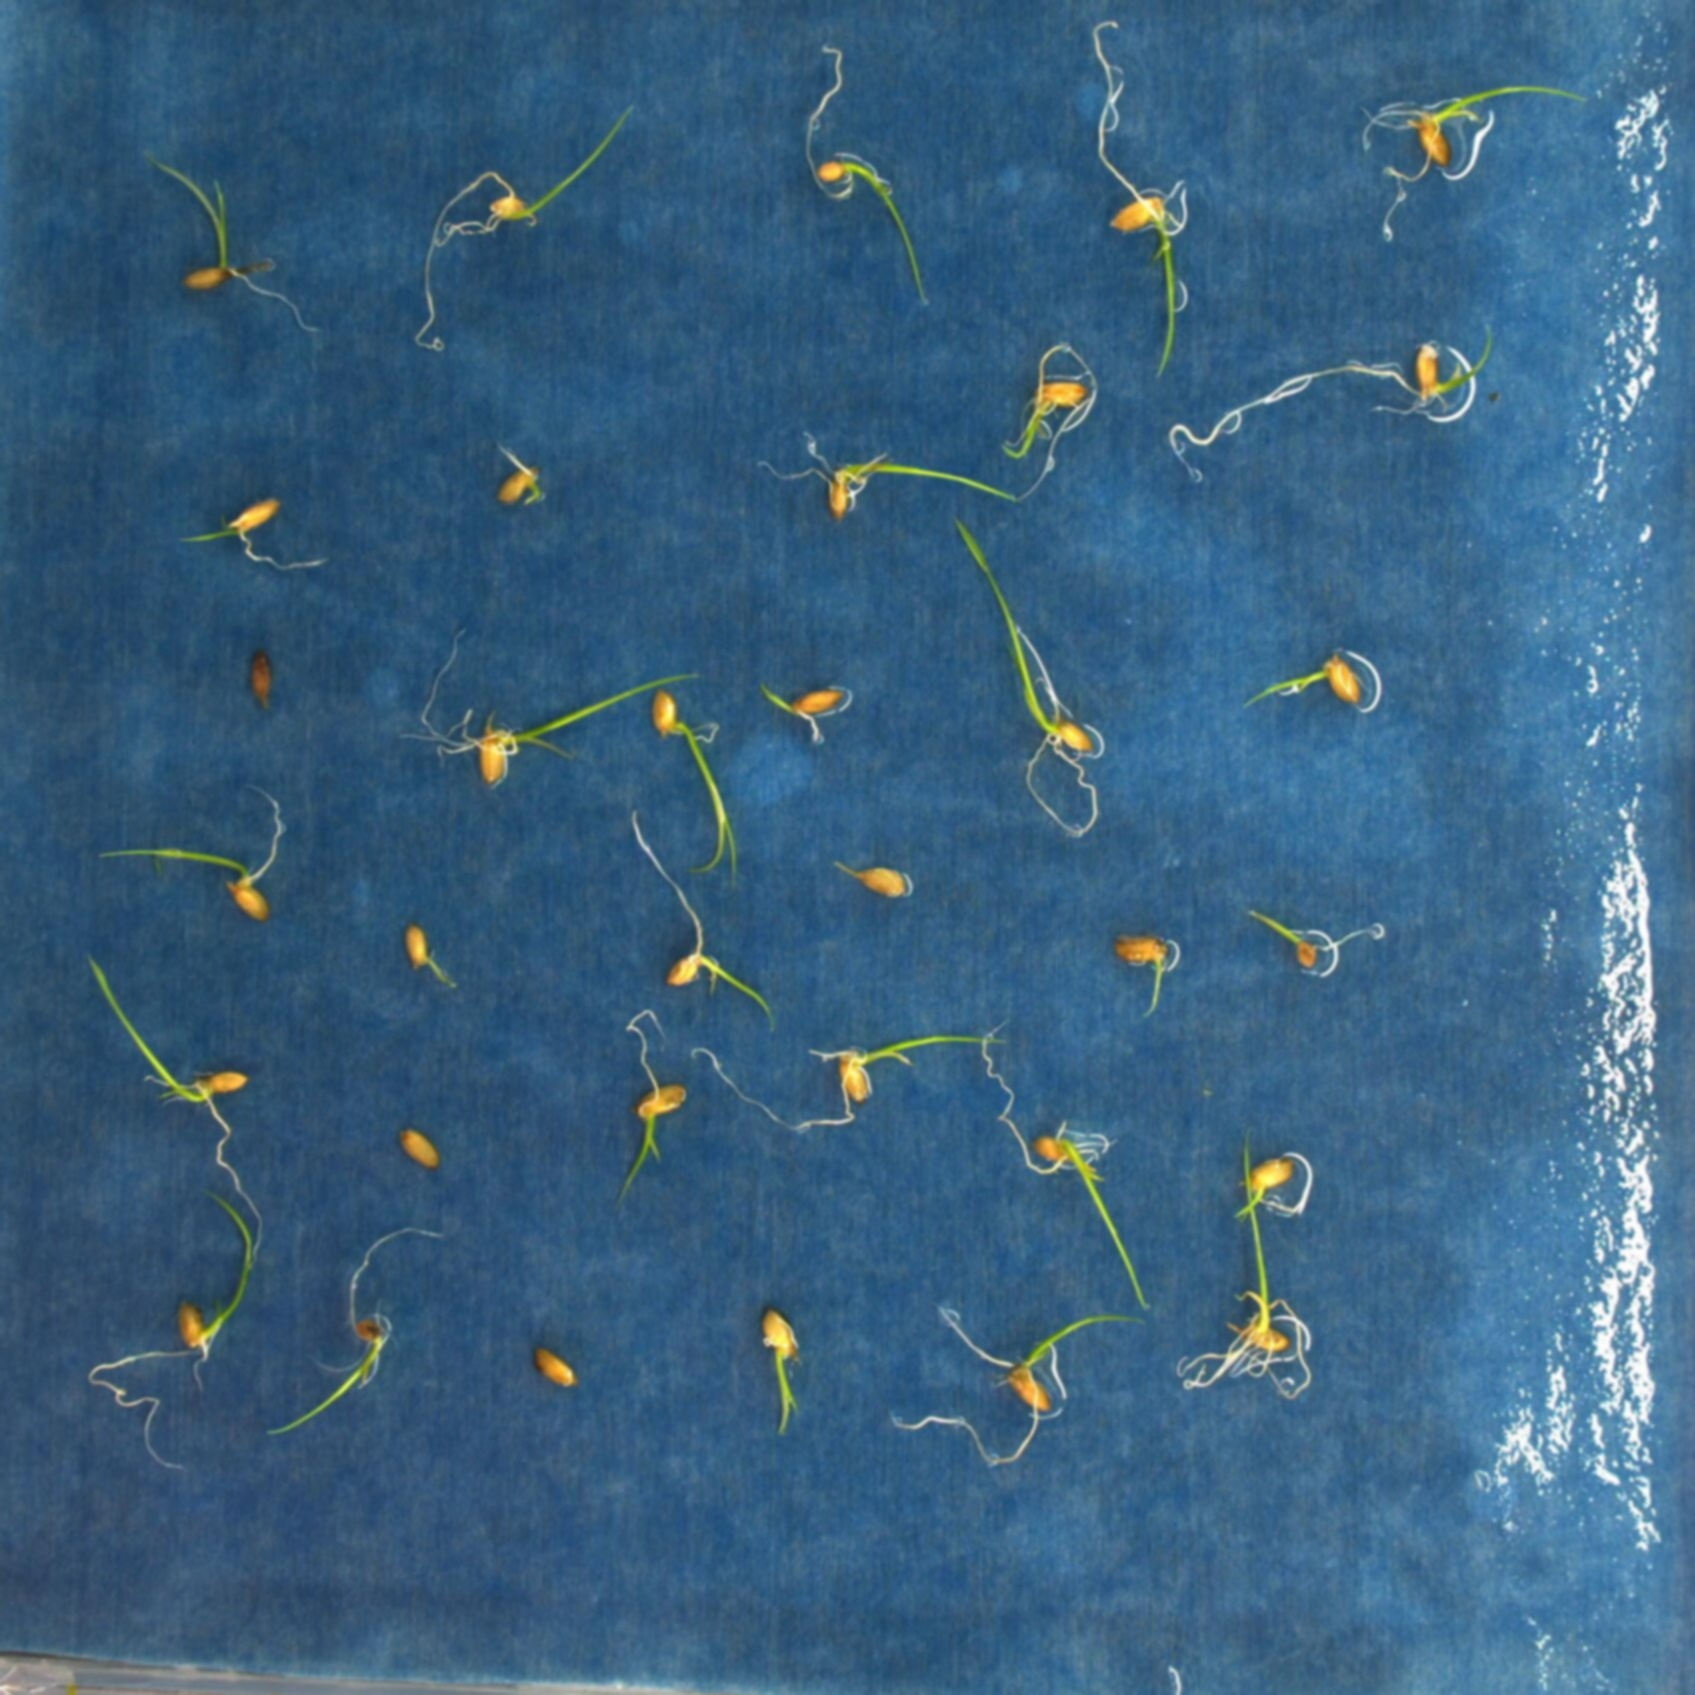not sprout: (394, 1121, 439, 1172), (247, 650, 278, 719), (532, 1341, 577, 1388)
sprout: (82, 947, 265, 1260), (1166, 310, 1492, 483), (411, 107, 641, 351), (397, 626, 712, 790), (953, 515, 1099, 841), (85, 1187, 250, 1471), (885, 1305, 1152, 1465), (272, 1228, 450, 1444), (1178, 1135, 1315, 1399), (1361, 85, 1586, 245), (627, 806, 779, 1035), (804, 47, 931, 307), (1093, 19, 1184, 379), (691, 1034, 1014, 1132), (157, 161, 326, 338), (99, 784, 282, 924), (757, 428, 1020, 514), (979, 1020, 1110, 1184), (653, 688, 744, 883), (1001, 343, 1101, 498), (622, 1010, 686, 1200), (172, 495, 328, 573), (1246, 903, 1378, 978), (1239, 647, 1364, 709), (757, 681, 846, 747), (761, 1312, 804, 1437), (1113, 931, 1170, 1018), (404, 924, 459, 993), (1237, 1153, 1295, 1215), (834, 855, 906, 900), (492, 444, 543, 508)
